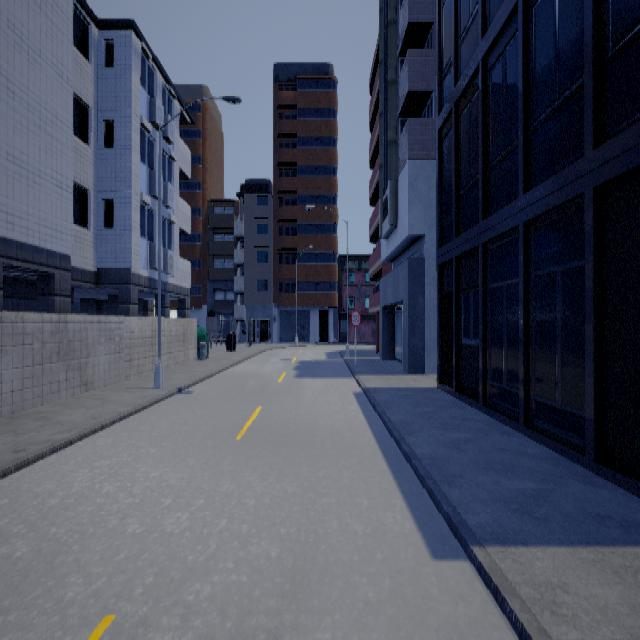traffic_sign: (350, 308, 360, 325)
